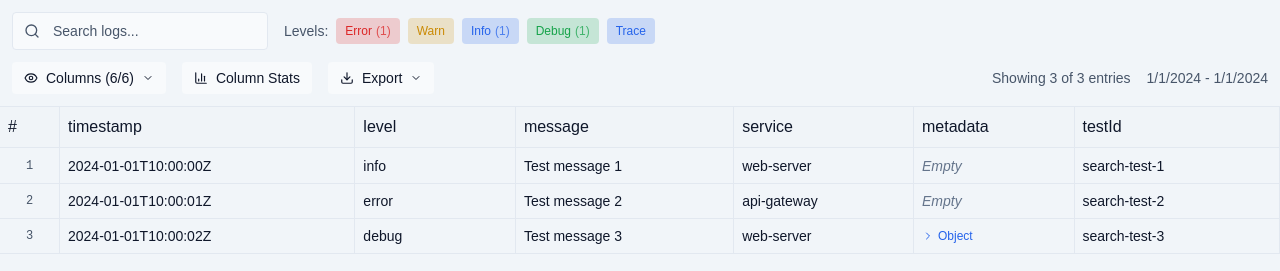
Test: JsonLogViewer › should handle text search
This screenshot has width=1280, height=271.
Check: the text "Showing 3 of 3 entries" is shown, box left=992, top=68, right=1131, bottom=88
Type "api-gateway" into the field with placeholder "Search logs..." at (140, 31), box left=12, top=12, right=268, bottom=50
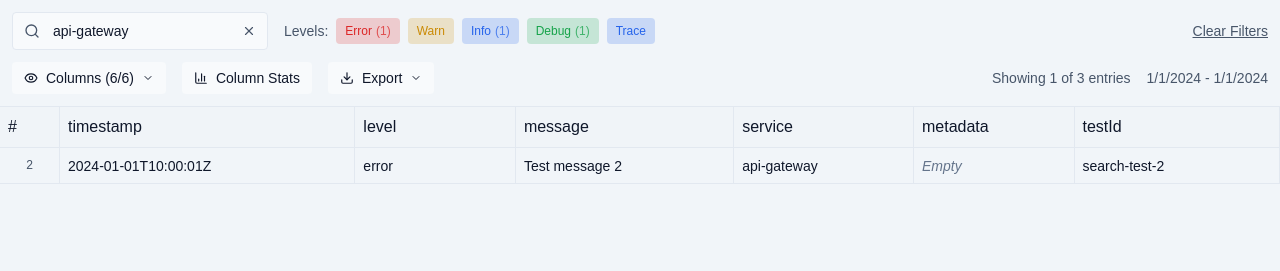
Check: the text "Showing 1 of 3 entries" is shown, box left=992, top=68, right=1131, bottom=88
